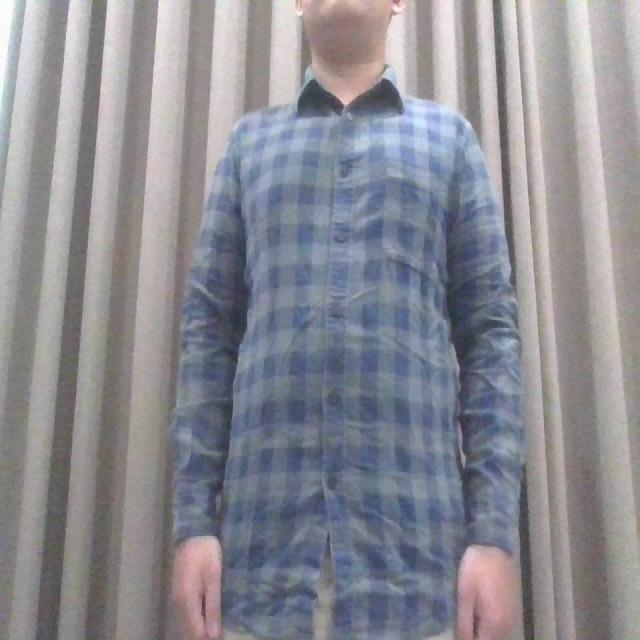long_Sleeve_shirt: (174, 79, 525, 640)
